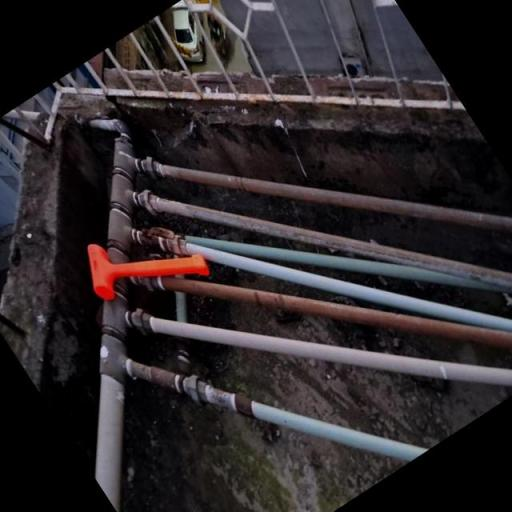mallet: (70, 194, 213, 332)
